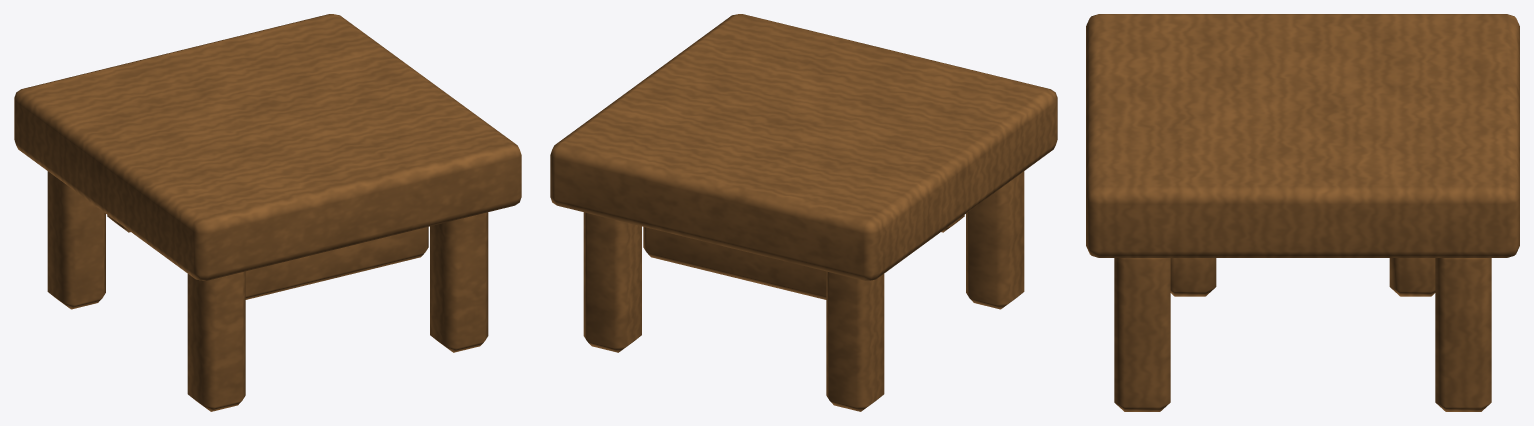
File: Furn_LowTableSmall.fbx
The picture shows the model from 3 angles, left to right: view 1: azimuth 30°, elevation 25°; view 2: azimuth 150°, elevation 25°; view 3: azimuth 270°, elevation 25°; orthographic projection. The views are drawn at different scales.
Parts seen in each view (by area): view 1: Furn_LowTableSmall_Mesh; view 2: Furn_LowTableSmall_Mesh; view 3: Furn_LowTableSmall_Mesh.
Part boxes in pixels (x1=…): Furn_LowTableSmall_Mesh: x1=14, y1=14, x2=521, y2=411; Furn_LowTableSmall_Mesh: x1=550, y1=14, x2=1057, y2=411; Furn_LowTableSmall_Mesh: x1=1086, y1=14, x2=1519, y2=411.
Bounding box in the file's own units: 0.5 × 0.3 × 0.5.
Materials: 1 (1 with a texture image).
